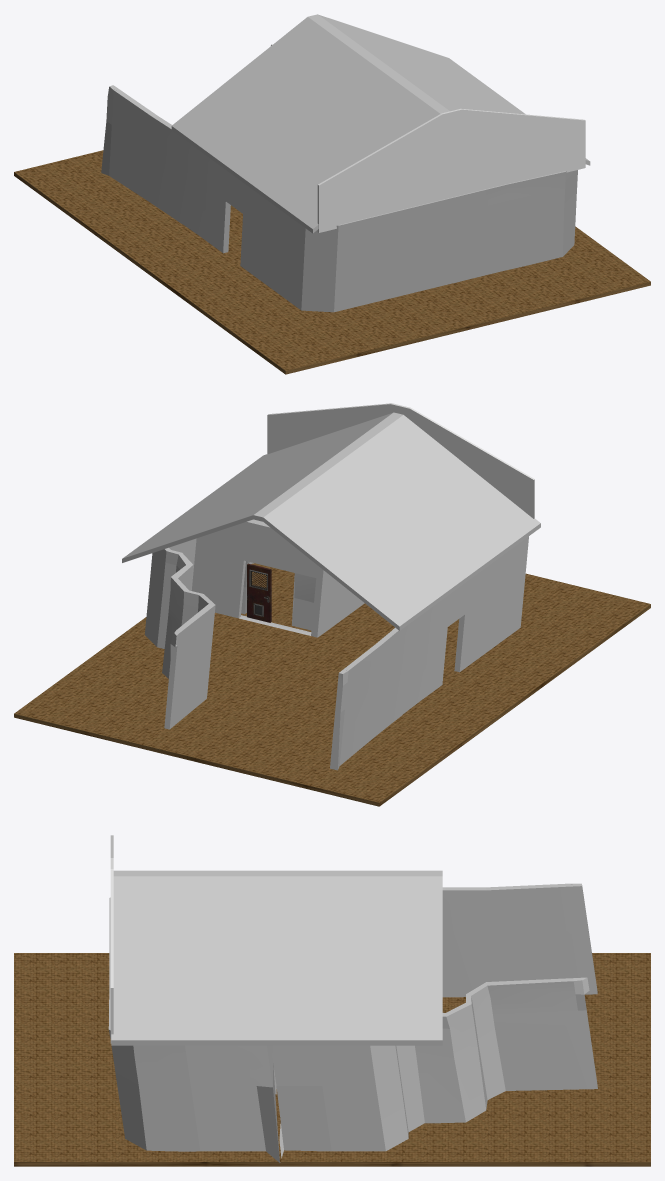
Rendered from main.fbx.
3 renders of one model, top to bottom at view 1: azimuth 30°, elevation 25°; view 2: azimuth 150°, elevation 25°; view 3: azimuth 270°, elevation 25°, orthographic. The views are drawn at different scales.
Parts seen in each view (by area): view 1: Main platform, Cube, roof, Cube.001; view 2: Cube, roof, Main platform, Cube.001, door; view 3: Main platform, roof, Cube, Cube.001.
Part boxes in pixels (x1,y1,x2,y2): Main platform: (101, 44, 577, 312); Cube: (14, 150, 650, 374); roof: (171, 14, 590, 233); Cube.001: (317, 108, 585, 232); Cube: (14, 563, 650, 806); roof: (122, 412, 540, 630); Main platform: (144, 519, 528, 770); Cube.001: (267, 403, 534, 518); door: (247, 563, 271, 622); Main platform: (108, 883, 597, 1162); roof: (111, 870, 442, 1045); Cube: (14, 953, 650, 1166); Cube.001: (110, 835, 113, 1043).
Bounding box in the file's own units: 34278 × 16216 × 43925.
